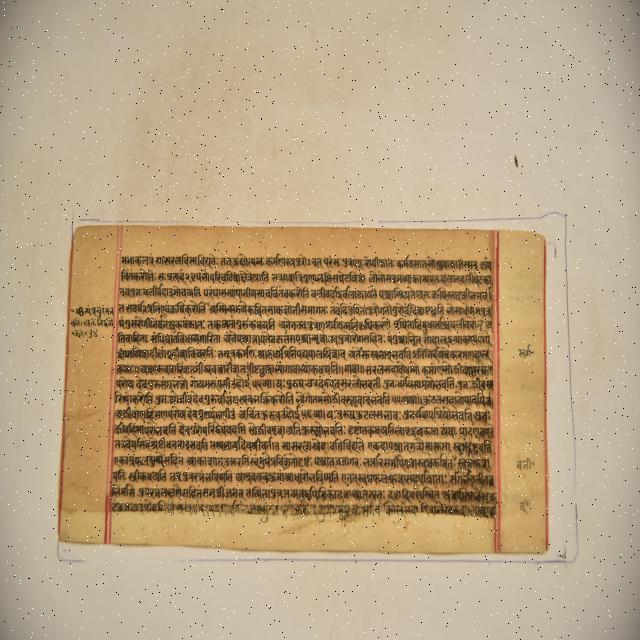text_paragraph: (57, 229, 545, 552)
